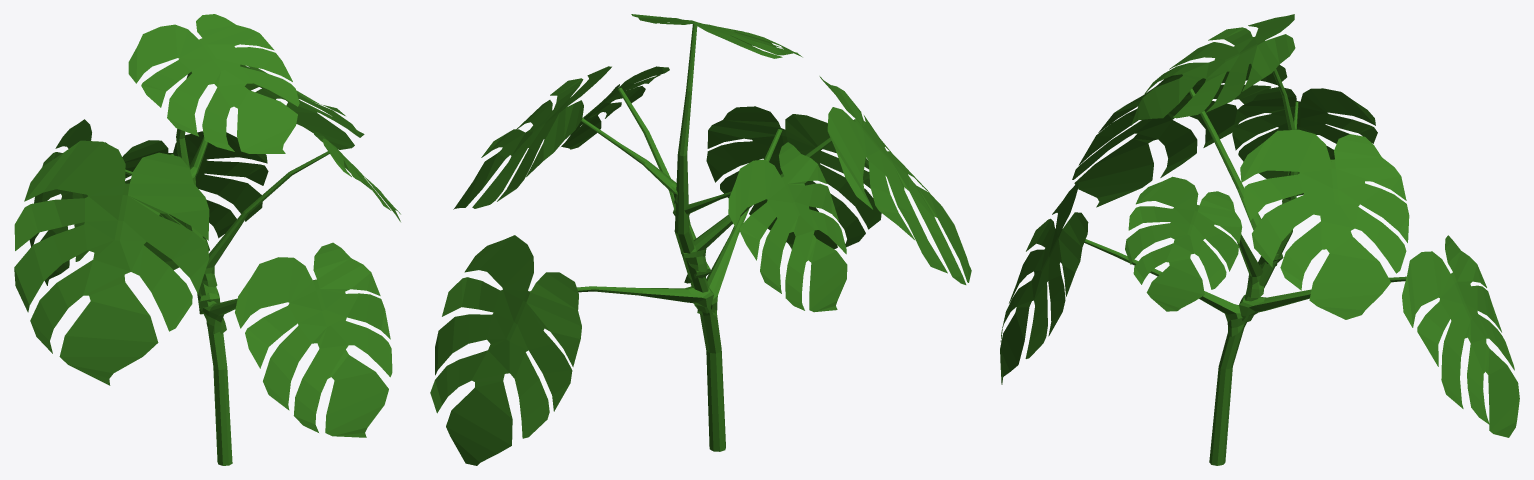
The model's file is SplitLeaf_Philodendron_02.fbx.
3 renders of one model, left to right at view 1: azimuth 30°, elevation 25°; view 2: azimuth 150°, elevation 25°; view 3: azimuth 270°, elevation 25°, orthographic. The views are drawn at different scales.
Parts seen in each view (by area): view 1: SplitLeaf_Philodendron_02; view 2: SplitLeaf_Philodendron_02; view 3: SplitLeaf_Philodendron_02.
Boxes of the visible parts, left/top/right/bottom form: SplitLeaf_Philodendron_02: left=14, top=14, right=400, bottom=465; SplitLeaf_Philodendron_02: left=430, top=14, right=971, bottom=465; SplitLeaf_Philodendron_02: left=1000, top=14, right=1519, bottom=465.
Bounding box in the file's own units: 86.84 × 90.61 × 98.9.
